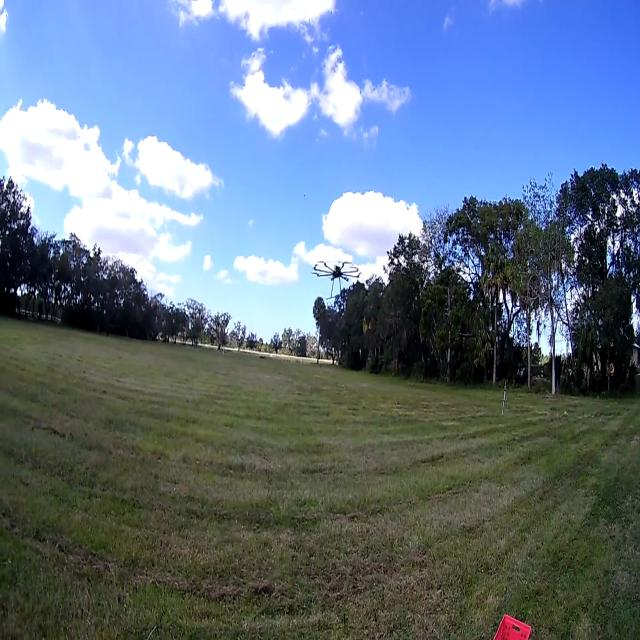drone: (303, 235, 370, 309)
